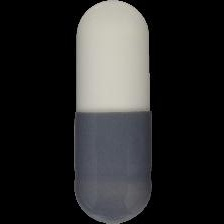54868-2391: (0, 0, 224, 224)
